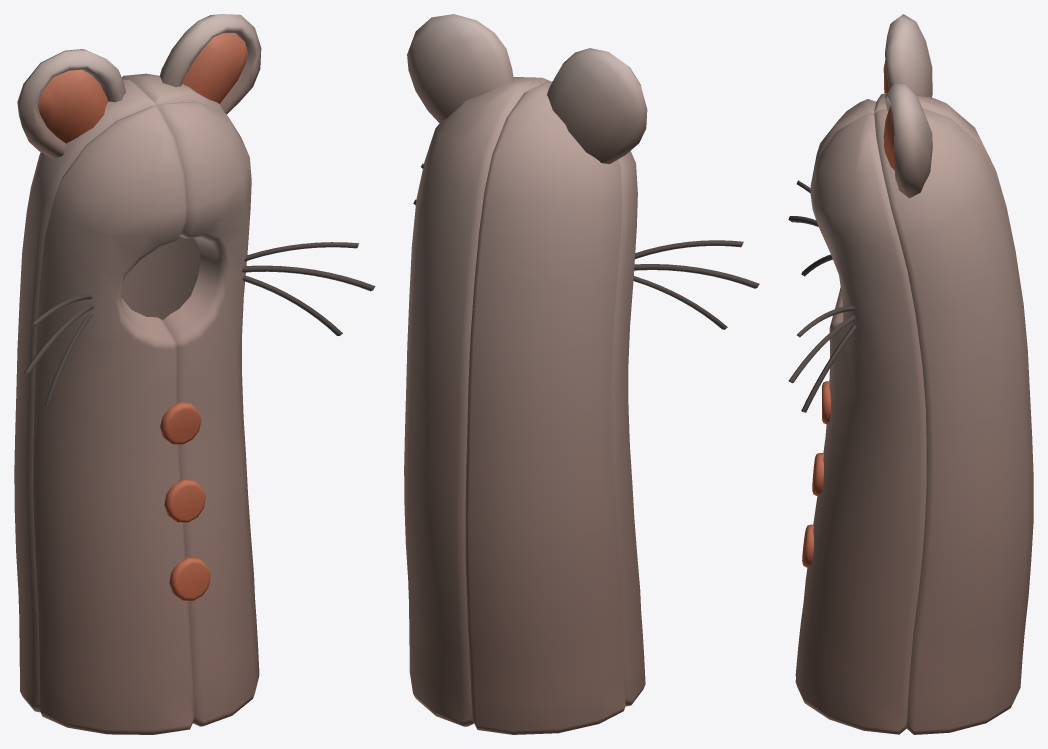
The model's file is Cos_02.glb.
3 renders of one model, left to right at view 1: azimuth 30°, elevation 25°; view 2: azimuth 150°, elevation 25°; view 3: azimuth 270°, elevation 25°, orthographic. The views are drawn at different scales.
Parts seen in each view (by area): view 1: Costume_6_001; view 2: Costume_6_001; view 3: Costume_6_001.
Boxes of the visible parts, bbox=[...] form: Costume_6_001: bbox=[14, 14, 375, 734]; Costume_6_001: bbox=[404, 14, 759, 734]; Costume_6_001: bbox=[788, 14, 1033, 734].
Size of the model in its own units: 0.7434 by 1.35 by 0.4688.
1 material, 1 textured.
